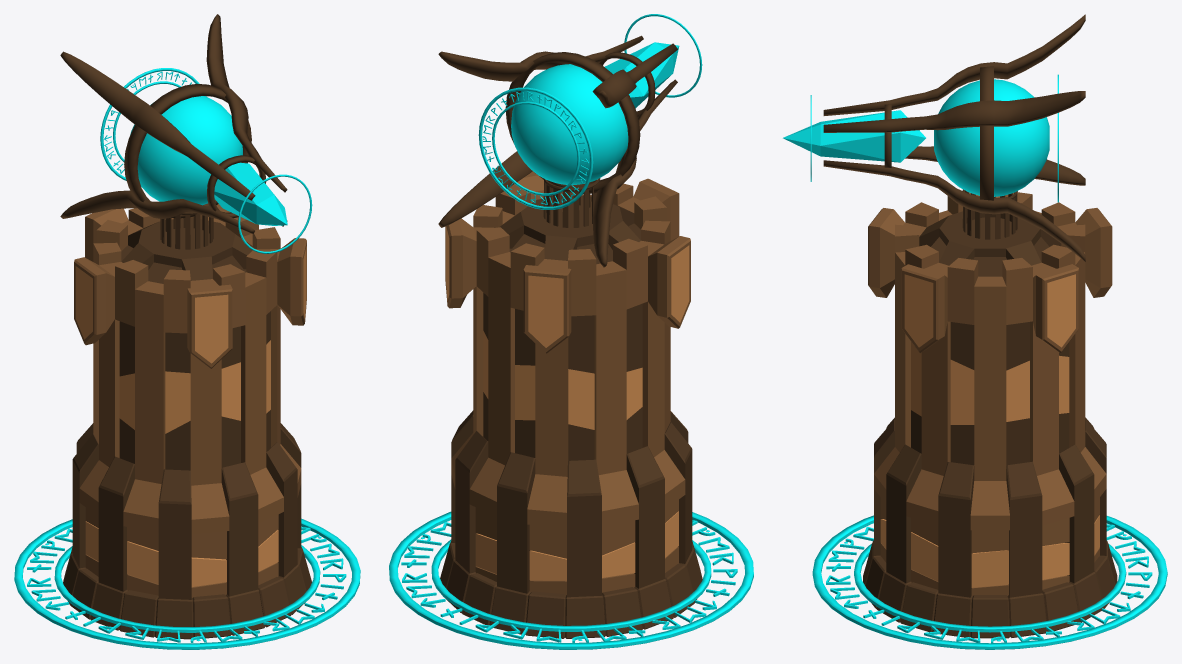
File: MagicTower_1.fbx
3 views of the same model, side by side, from view 1: azimuth 30°, elevation 25°; view 2: azimuth 150°, elevation 25°; view 3: azimuth 270°, elevation 25° (orthographic). The views are drawn at different scales.
Parts seen in each view (by area): view 1: 1.Tower, 1.magic.canon, 1.base.magic.circle; view 2: 1.Tower, 1.magic.canon, 1.base.magic.circle; view 3: 1.Tower, 1.magic.canon, 1.base.magic.circle.
Part boxes in pixels (box(x1,y1,x2,y2)): 1.Tower: box(63, 203, 311, 639); 1.magic.canon: box(60, 14, 312, 253); 1.base.magic.circle: box(14, 518, 360, 649); 1.Tower: box(440, 171, 702, 638); 1.magic.canon: box(438, 14, 702, 267); 1.base.magic.circle: box(389, 511, 753, 649); 1.Tower: box(863, 189, 1117, 638); 1.magic.canon: box(783, 14, 1085, 261); 1.base.magic.circle: box(812, 515, 1167, 649).
Size of the model in its own units: 183 by 303 by 198.
